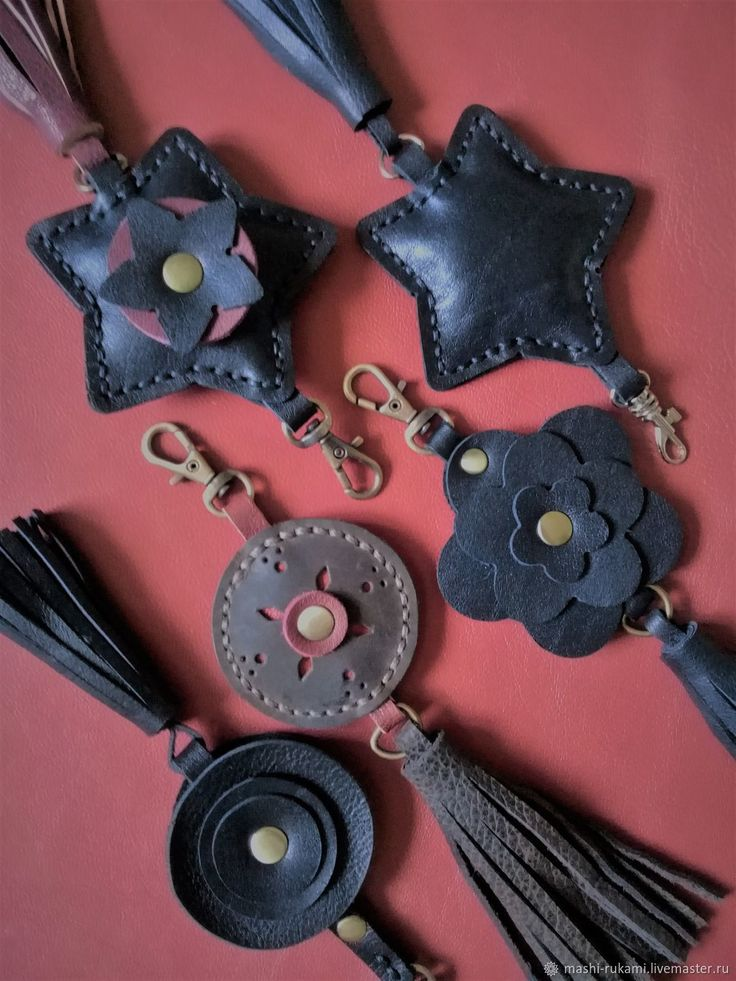cuero: (2, 1, 736, 981)
